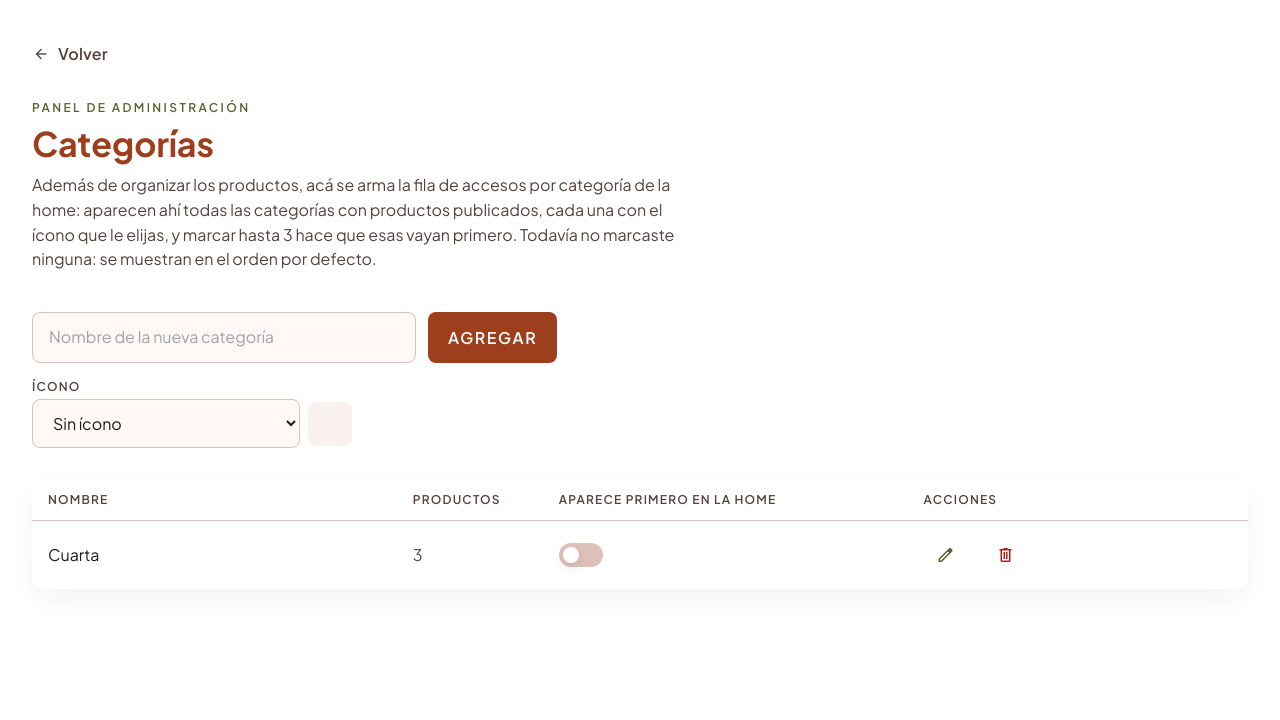
AdminCategorias — selección para la home › muestra el mensaje del BACKEND cuando se pasa del tope
Expected: the text "Cuarta" is shown, top-left (32, 521), bottom-right (397, 589)
Click the switch at (581, 555), box top-left (559, 543), bottom-right (603, 567)
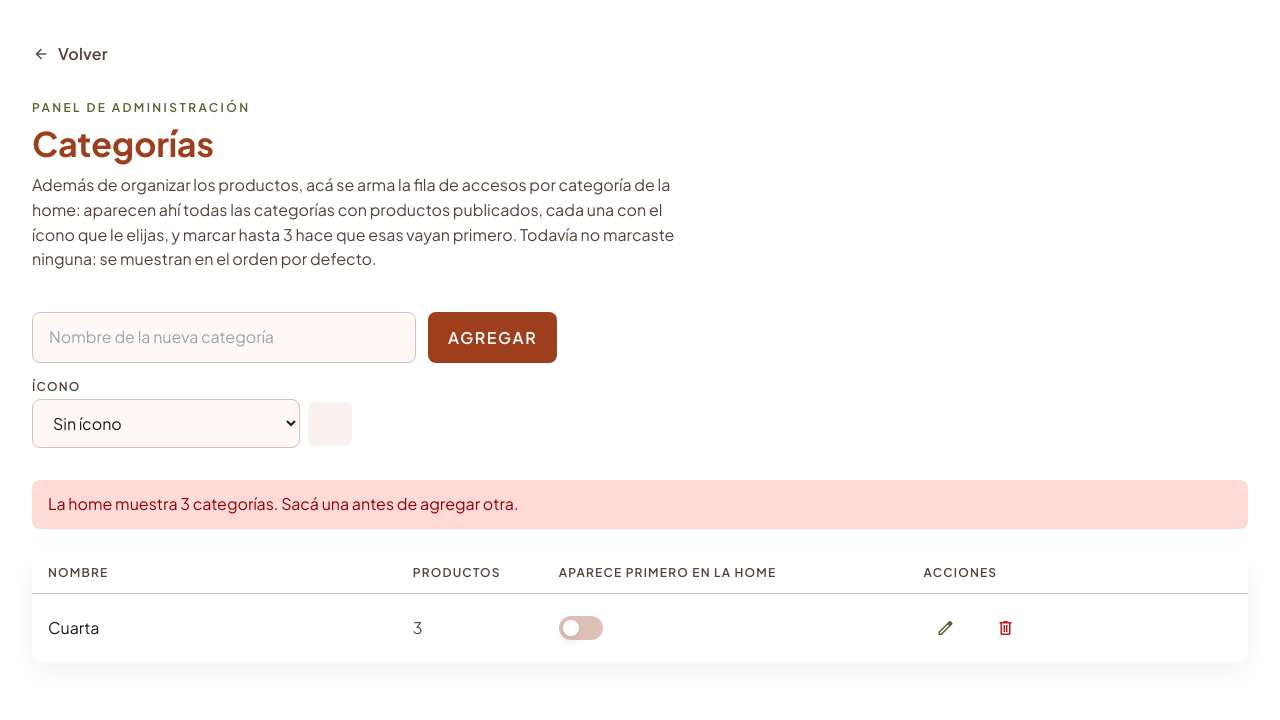
Result: the text "La home muestra 3 categorías. Sacá una antes de agregar otra." is shown at top-left (32, 480), bottom-right (1248, 529)
